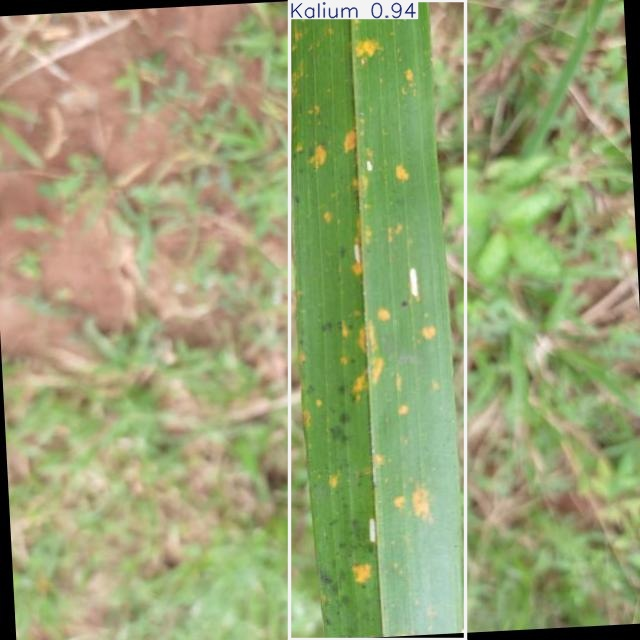Kalium: (289, 0, 465, 640)
